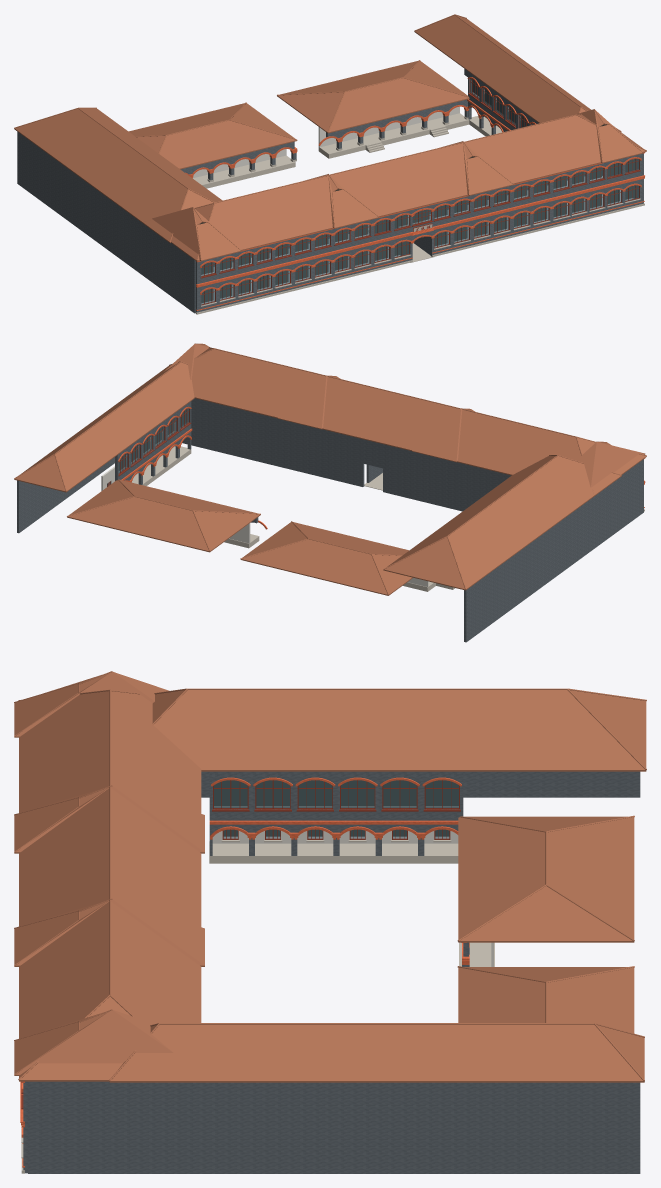
Rendered from changning-st-johns-seaman-hall-courtyard-web.glb.
The picture shows the model from 3 angles, top to bottom: view 1: azimuth 30°, elevation 25°; view 2: azimuth 150°, elevation 25°; view 3: azimuth 270°, elevation 25°; orthographic projection. The views are drawn at different scales.
Parts seen in each view (by area): view 1: 圣约翰中学西门堂22号楼院廊与东风楼门额; view 2: 圣约翰中学西门堂22号楼院廊与东风楼门额; view 3: 圣约翰中学西门堂22号楼院廊与东风楼门额.
Boxes of the visible parts, x1,y1,x2,y2 form: 圣约翰中学西门堂22号楼院廊与东风楼门额: [14, 14, 646, 314]; 圣约翰中学西门堂22号楼院廊与东风楼门额: [14, 343, 646, 642]; 圣约翰中学西门堂22号楼院廊与东风楼门额: [14, 671, 646, 1173].
Bounding box in the file's own units: 73.11 × 12.95 × 51.33.
9 materials, 2 textured.
